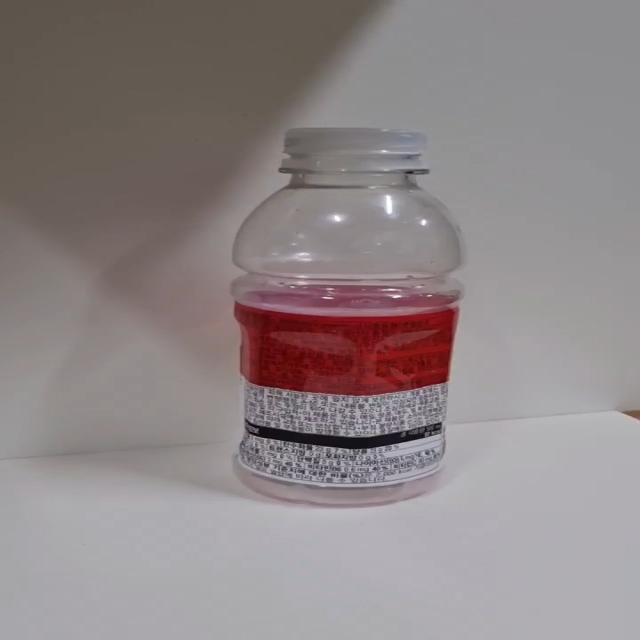Plastic: (228, 127, 466, 509)
